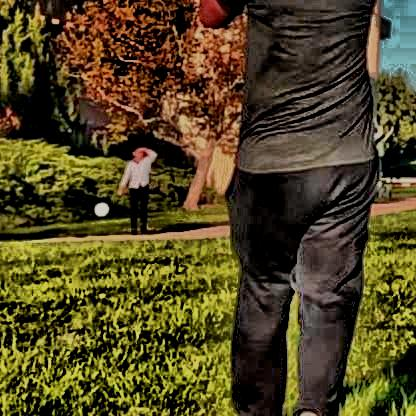golfball: (89, 198, 108, 215)
